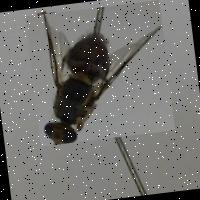Oriental-fruit-fly: (25, 0, 175, 145)
